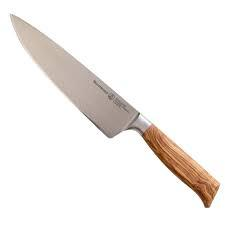Knife: (9, 12, 220, 207)
